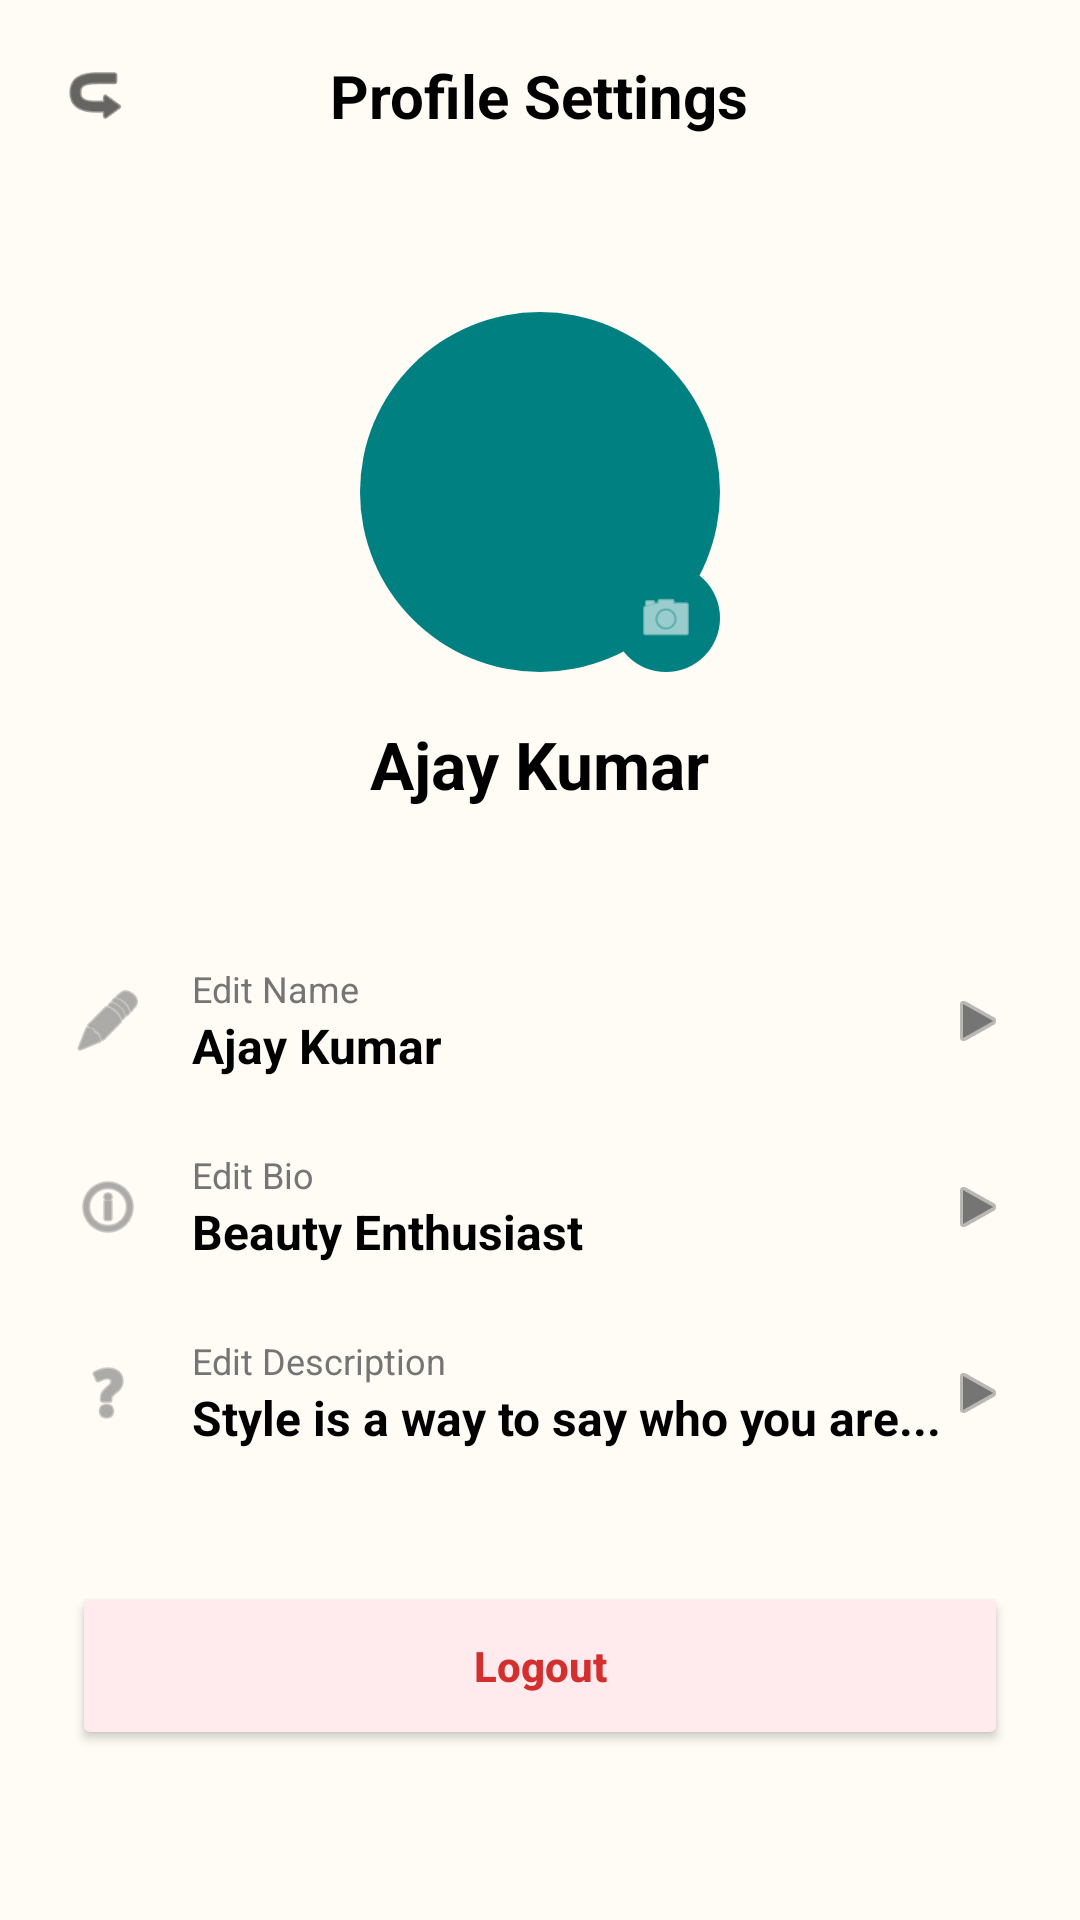

Icon click points for this 1080px x 1920px phone screenshot, format (x=x, y=y):
help: (x=108, y=1393)
info details: (x=108, y=1207)
play: (x=978, y=1021), (x=978, y=1207), (x=978, y=1393)
